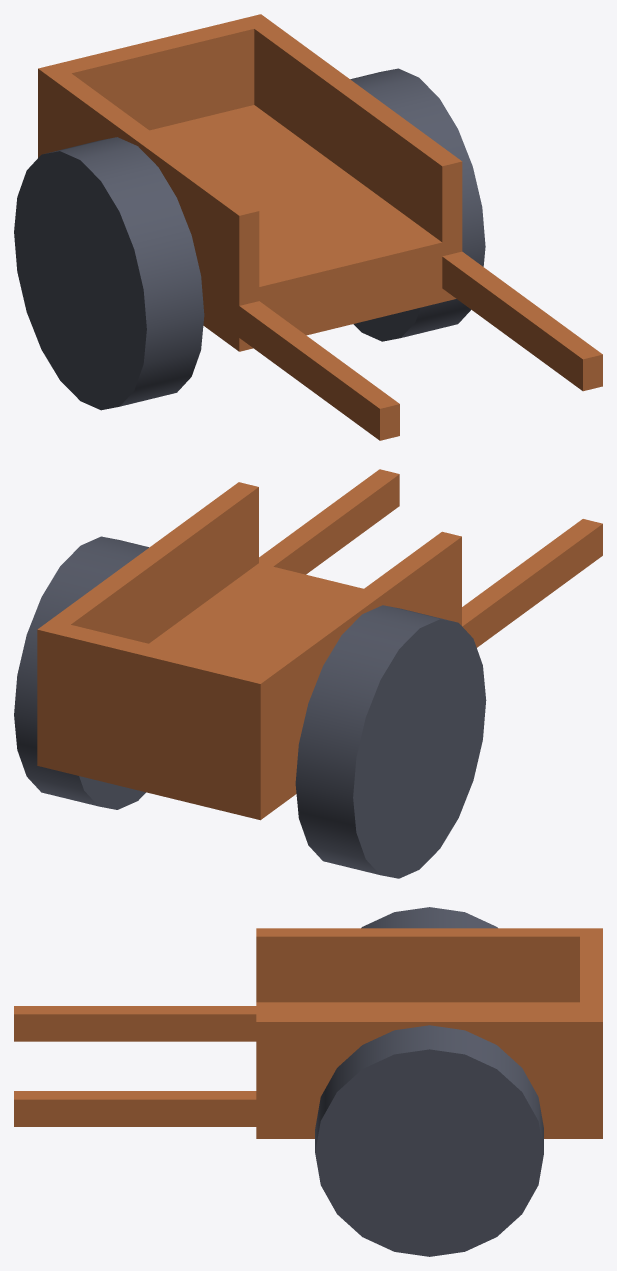
Rendered from Cart.fbx.
3 views of the same model, one above another, from view 1: azimuth 30°, elevation 25°; view 2: azimuth 150°, elevation 25°; view 3: azimuth 270°, elevation 25° (orthographic). The views are drawn at different scales.
Visible parts, largest first — view 1: pCube85, pCylinder3, pCube86, pCylinder1; view 2: pCube85, pCylinder3, pCube86, pCylinder1; view 3: pCylinder1, pCube86, pCube85, pCylinder3.
Boxes of the visible parts, left/top/right/bottom form: pCube85: left=150, top=14, right=602, bottom=391; pCylinder3: left=14, top=137, right=204, bottom=410; pCube86: left=38, top=41, right=399, bottom=440; pCylinder1: left=350, top=68, right=485, bottom=341; pCube85: left=37, top=469, right=399, bottom=792; pCylinder3: left=295, top=605, right=486, bottom=878; pCube86: left=148, top=519, right=602, bottom=820; pCylinder1: left=14, top=536, right=148, bottom=809; pCylinder1: left=315, top=1025, right=543, bottom=1256; pCube86: left=14, top=928, right=602, bottom=1041; pCube85: left=14, top=975, right=602, bottom=1138; pCylinder3: left=361, top=907, right=497, bottom=928.
Size of the model in its own units: 1.74 by 1.2 by 3.05.
